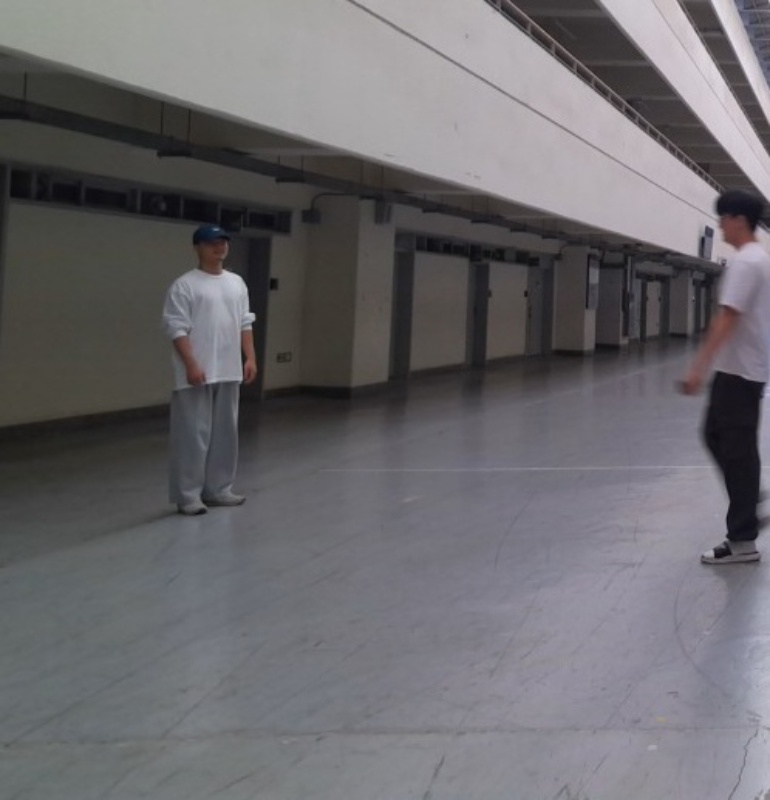person: (160, 219, 260, 517)
